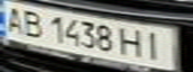1: (42, 12, 66, 44)
3: (78, 19, 100, 51)
4: (60, 16, 81, 47)
8: (93, 21, 118, 54)
A: (0, 2, 27, 34)
B: (18, 8, 48, 38)
H: (115, 25, 148, 60)
I: (139, 28, 172, 62)
